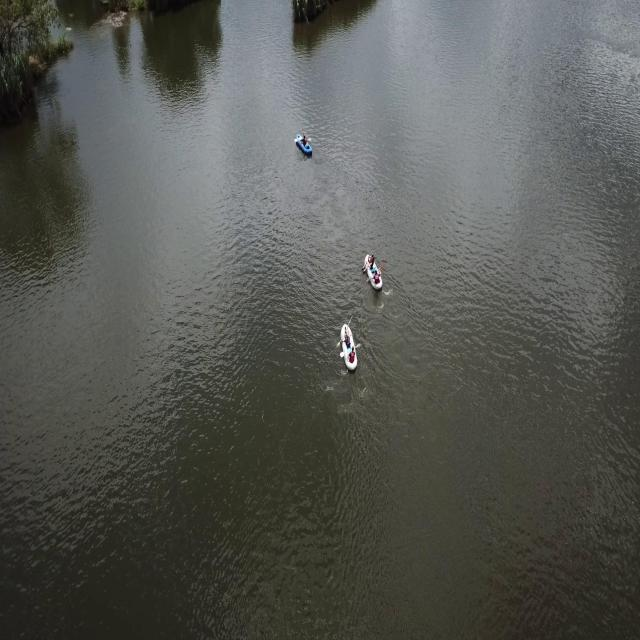kayak: (336, 318, 362, 380), (361, 250, 387, 296), (294, 130, 314, 163)
